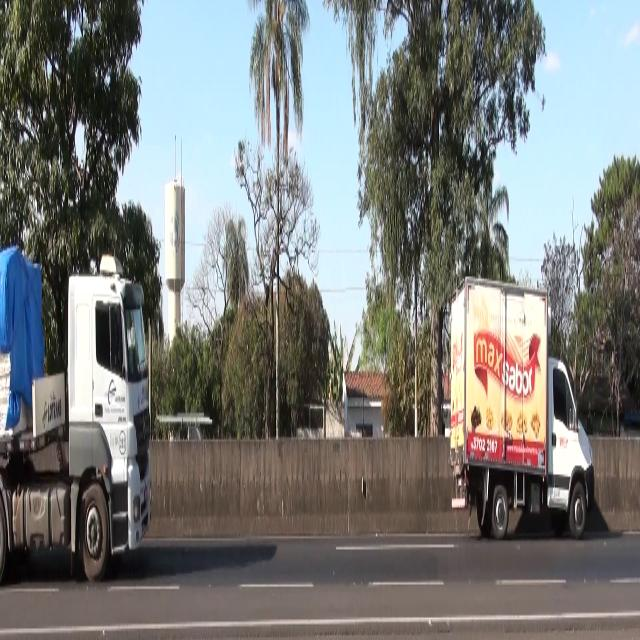-axle: (78, 485, 112, 586), (488, 487, 512, 545), (568, 482, 588, 539)
